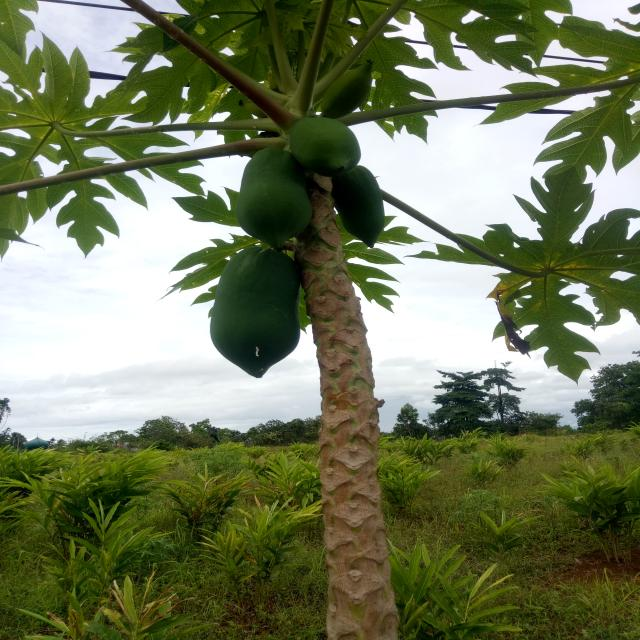Pepaya unrippen: (209, 248, 303, 381), (235, 151, 314, 248), (282, 116, 362, 177), (340, 182, 394, 252)
